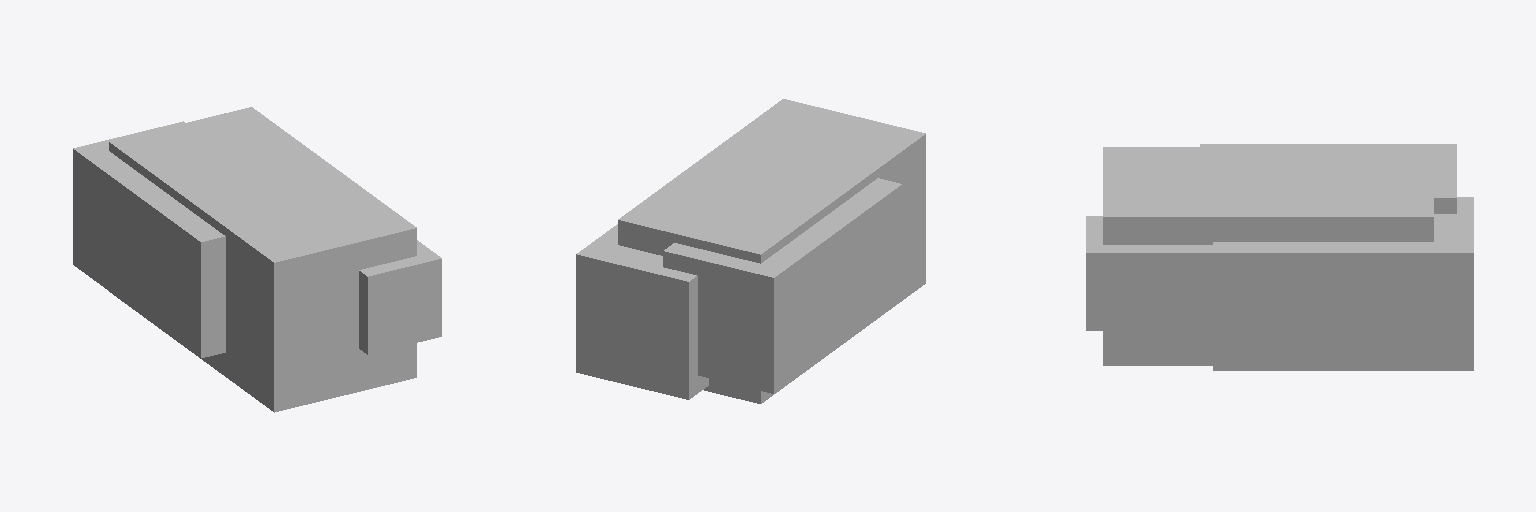
File: asteroid 2.obj
The picture shows the model from 3 angles: view 1: azimuth 30°, elevation 25°; view 2: azimuth 150°, elevation 25°; view 3: azimuth 270°, elevation 25°; orthographic projection.
Visible parts, largest first — view 1: asteroid_2; view 2: asteroid_2; view 3: asteroid_2.
Boxes of the visible parts, x1=… form: asteroid_2: x1=73, y1=107, x2=441, y2=412; asteroid_2: x1=576, y1=99, x2=925, y2=403; asteroid_2: x1=1086, y1=144, x2=1473, y2=370.
Size of the model in its own units: 5.27 by 3.98 by 9.36.